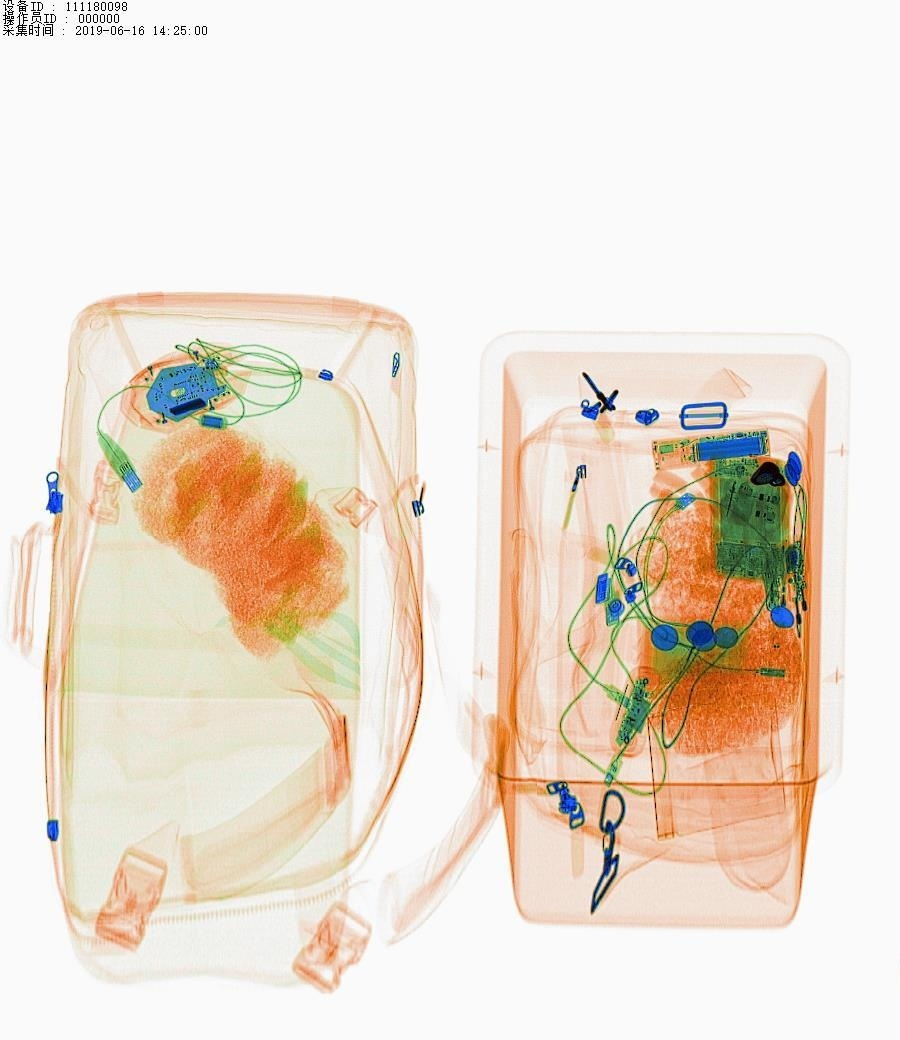NonmetallicFire: (762, 532, 798, 627)
